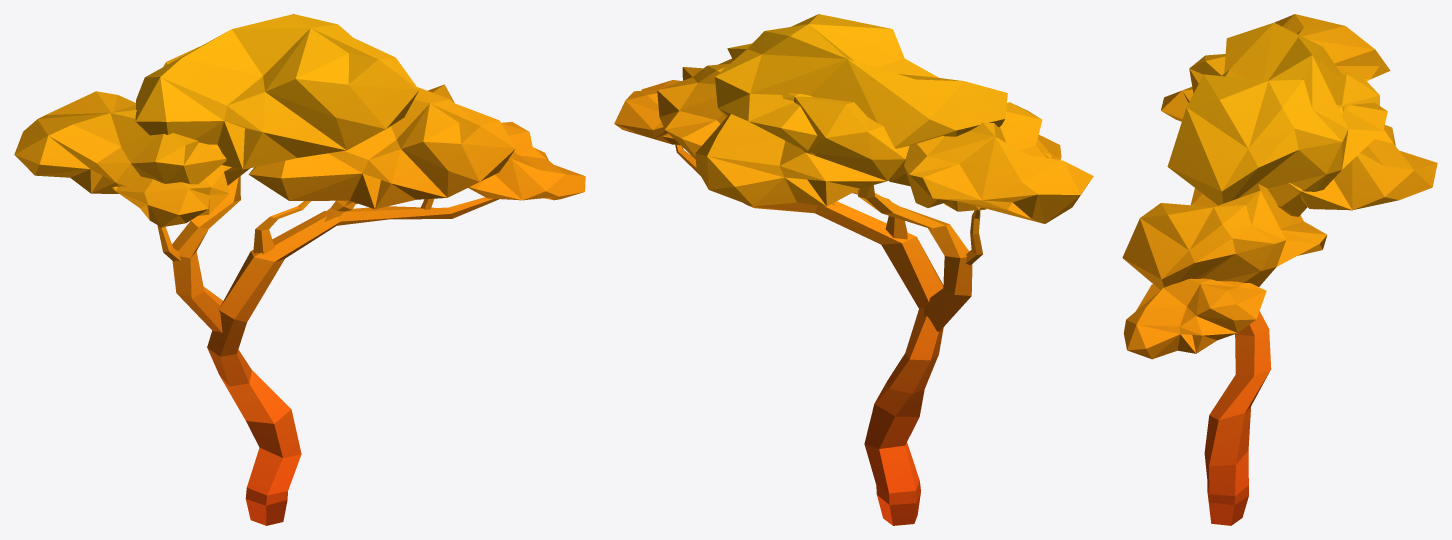
File: SM_Env_Hologram_Cherry_Tree_01.fbx
The picture shows the model from 3 angles, left to right: view 1: azimuth 30°, elevation 25°; view 2: azimuth 150°, elevation 25°; view 3: azimuth 270°, elevation 25°; orthographic projection. The views are drawn at different scales.
Parts seen in each view (by area): view 1: SM_Env_Hologram_Cherry_Tree_01; view 2: SM_Env_Hologram_Cherry_Tree_01; view 3: SM_Env_Hologram_Cherry_Tree_01.
Part boxes in pixels (box(x1,y1,x2,y2)): SM_Env_Hologram_Cherry_Tree_01: box(14, 14, 585, 525); SM_Env_Hologram_Cherry_Tree_01: box(614, 14, 1093, 525); SM_Env_Hologram_Cherry_Tree_01: box(1122, 14, 1437, 525).
Bounding box in the file's own units: 620 × 558 × 338.
